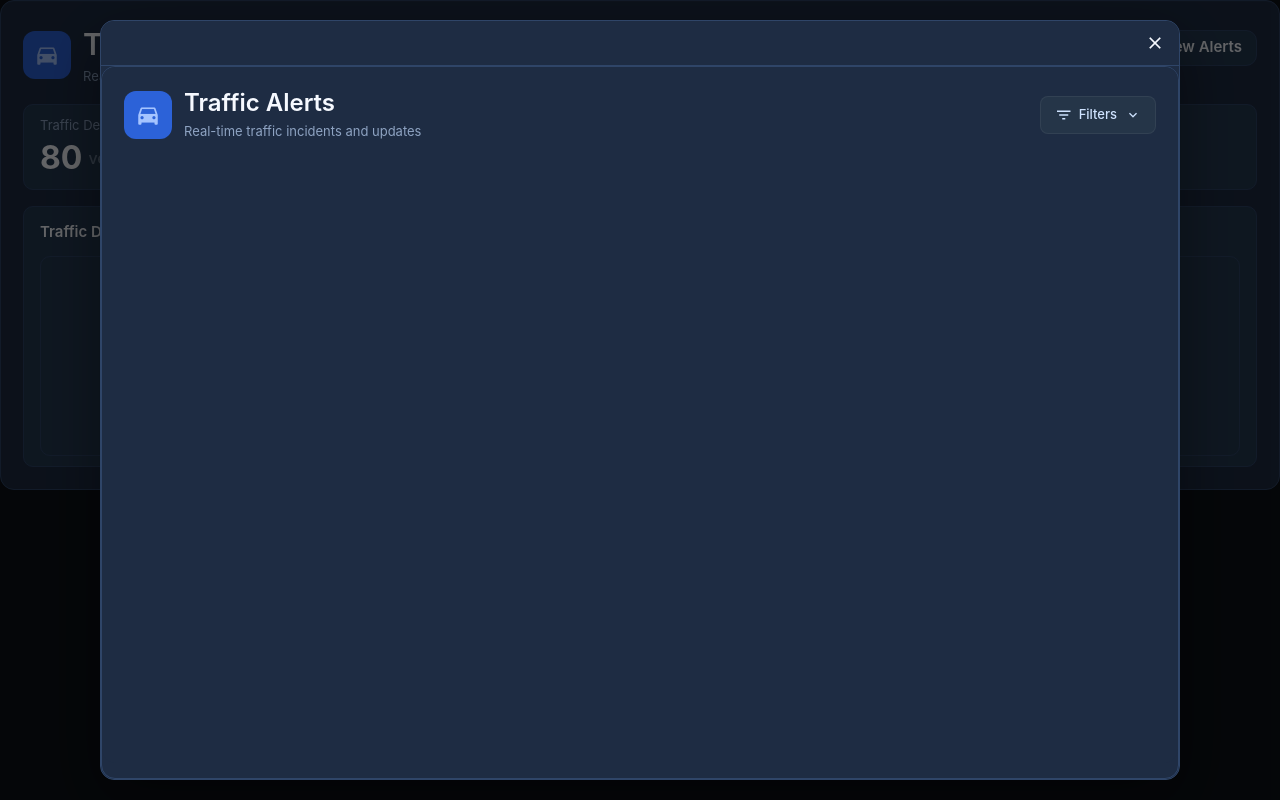
Test: TrafficSensorCardComponent › closes the alerts modal from the shell close button
What coordinates should you click on to do the following:
click the button with class "alert-modal-close"
I would click on:
 (1155, 43)
Its box is [1139, 27, 1171, 59].
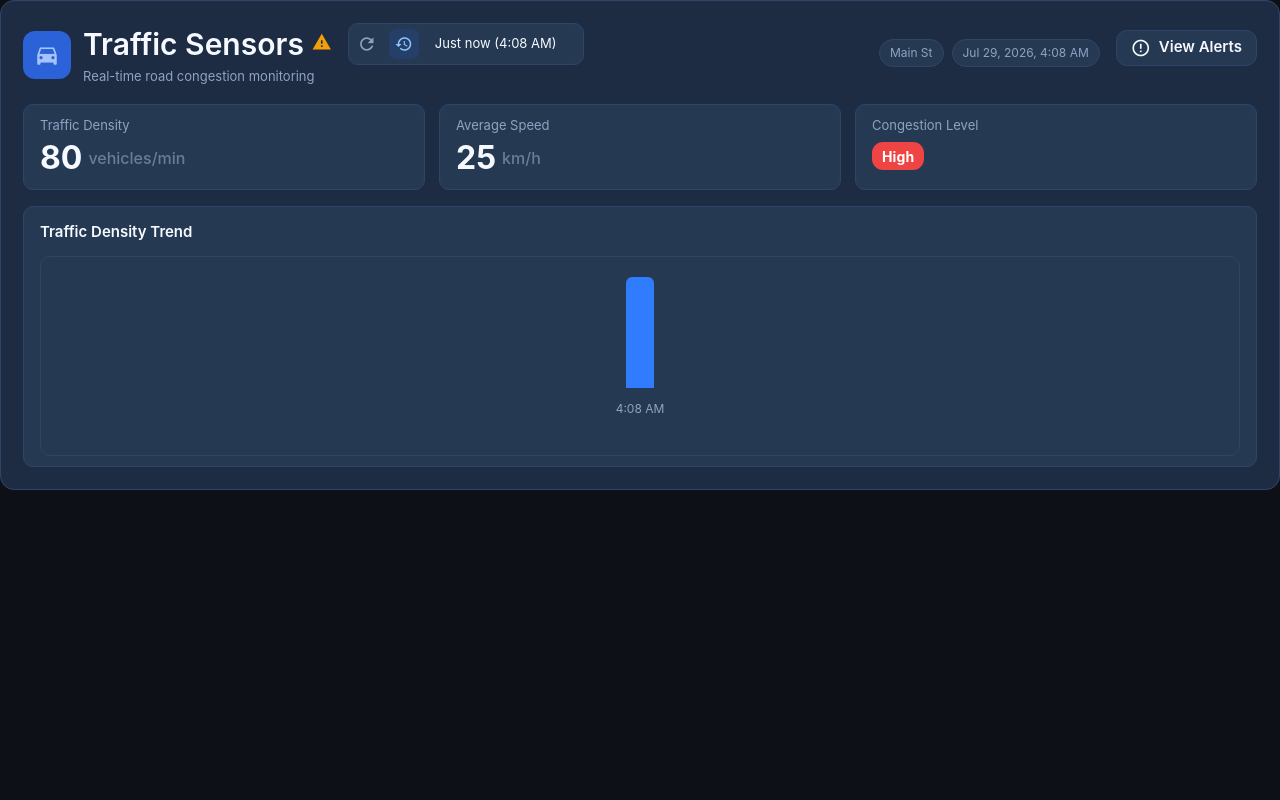
Expected: the dialog with class "alert-modal-shell" is gone
